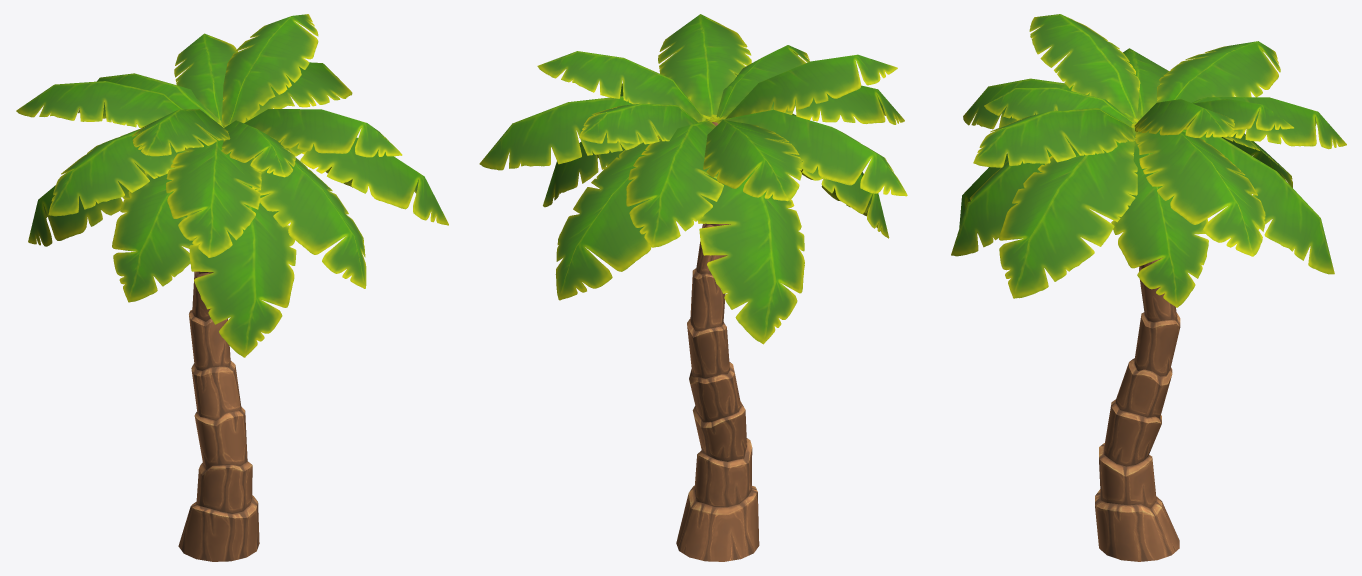
Rendered from M_Tree.fbx.
The picture shows the model from 3 angles, left to right: view 1: azimuth 30°, elevation 25°; view 2: azimuth 150°, elevation 25°; view 3: azimuth 270°, elevation 25°; orthographic projection. The views are drawn at different scales.
Visible parts, largest first — view 1: pPlane55; view 2: pPlane55; view 3: pPlane55.
Boxes of the visible parts, bbox=[...] form: pPlane55: bbox=[16, 14, 448, 561]; pPlane55: bbox=[479, 14, 907, 561]; pPlane55: bbox=[951, 14, 1346, 561].
Size of the model in its own units: 25.1 by 31.09 by 23.13.
